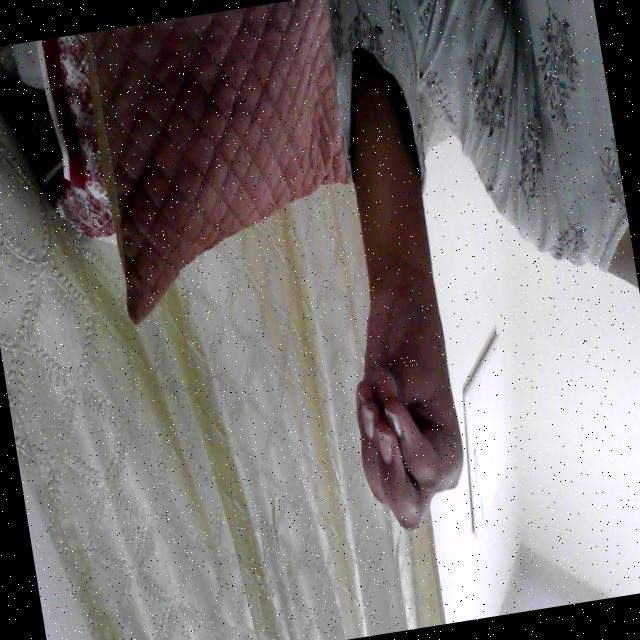Mukula: (298, 234, 484, 544)
